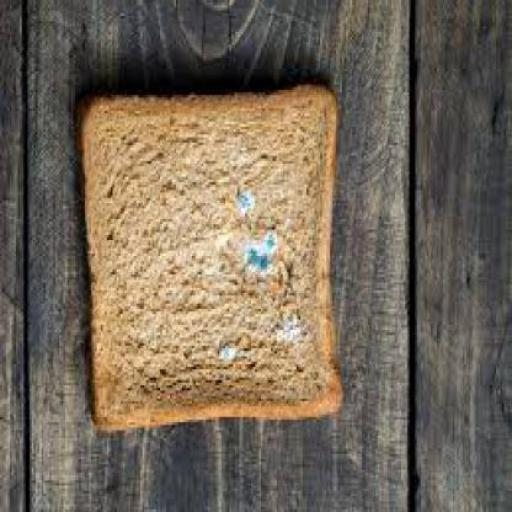biodegradable: (75, 81, 342, 436)
